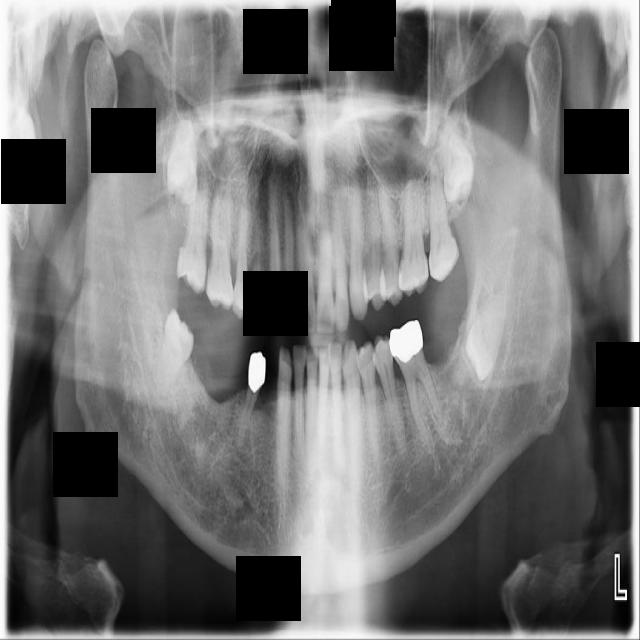3M ESPE Implant: (167, 112, 198, 204)
52: (383, 319, 431, 367), (248, 352, 265, 393)
BioHorizons Implant: (428, 159, 459, 280)
BioLife Implant: (436, 114, 476, 203)
Biomet 3i Implant: (460, 291, 508, 382)
Caries: (175, 192, 213, 293)
Keystone Dental Implant: (149, 307, 201, 402)
